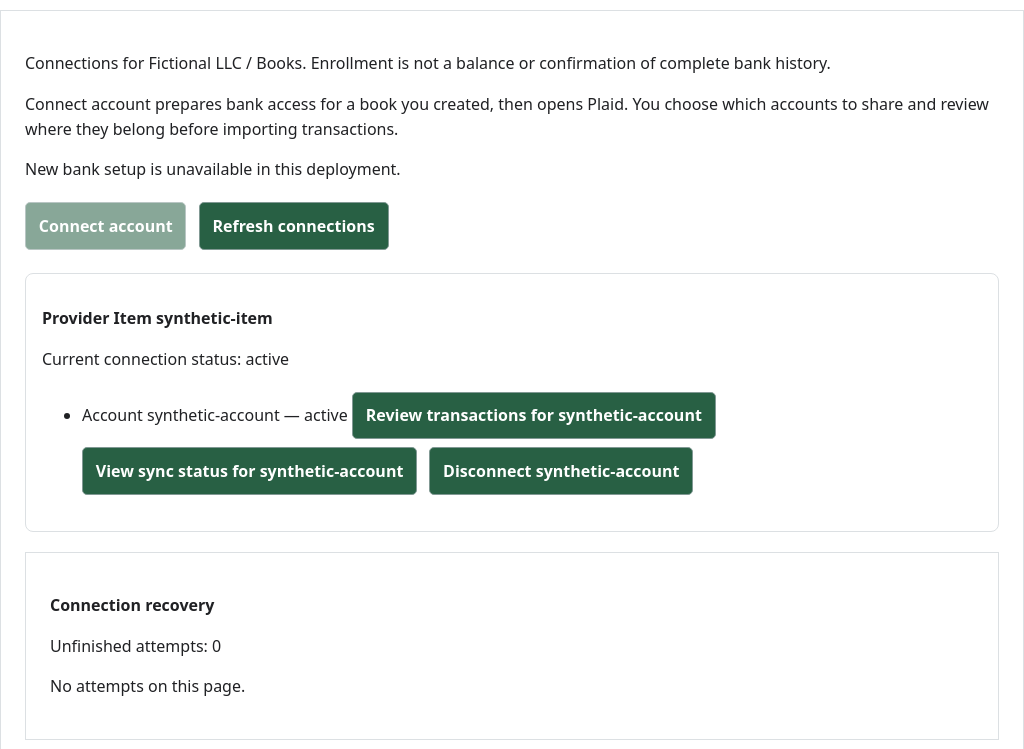
TestConnectionsScopeAndRecovery clears confirmed disconnect rejection
The width and height of the screenshot is (1024, 749).
Click the button "Disconnect synthetic-account". click: point(561, 471)
box: top-left (429, 447), bottom-right (693, 495)
(page scrolled)
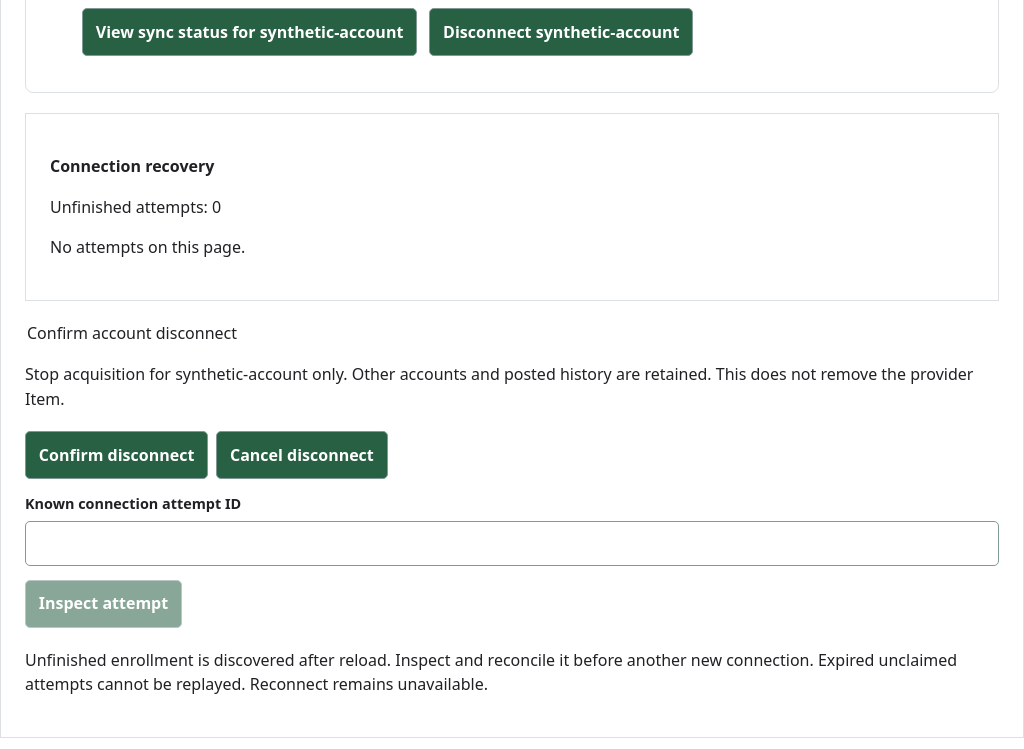
Click the button "Confirm disconnect". click: point(117, 455)
box: top-left (25, 432), bottom-right (208, 479)
(page scrolled)
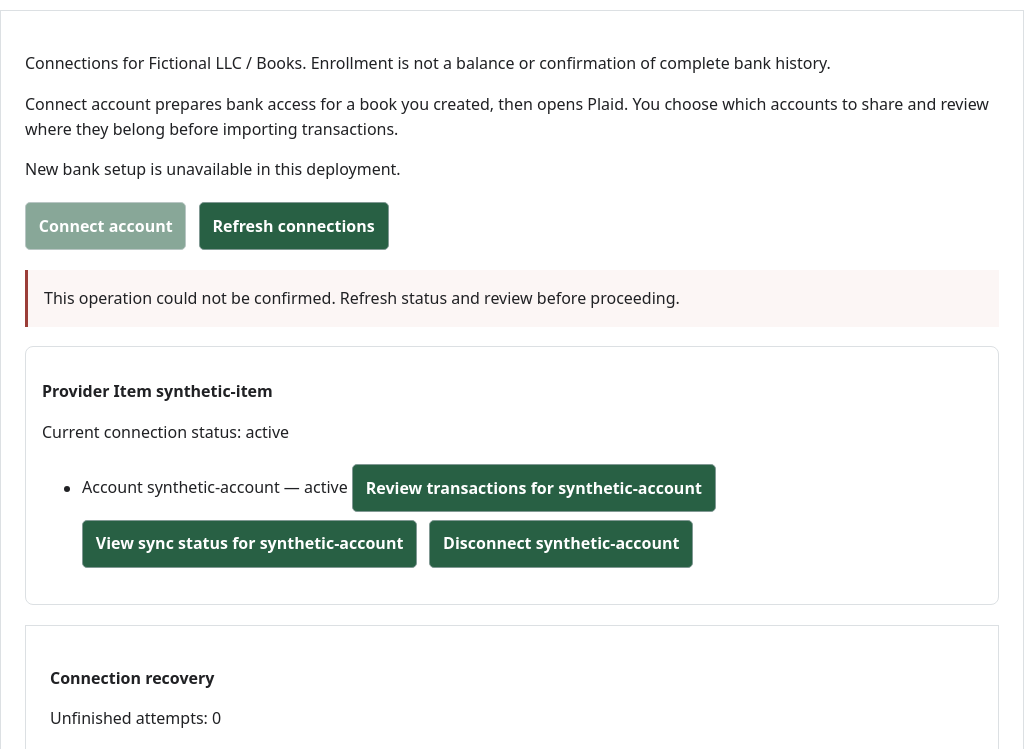
Expected: the button "Refresh connections" is enabled, top-left (199, 202), bottom-right (389, 250)
Expected: the message is shown, top-left (25, 270), bottom-right (999, 327)
